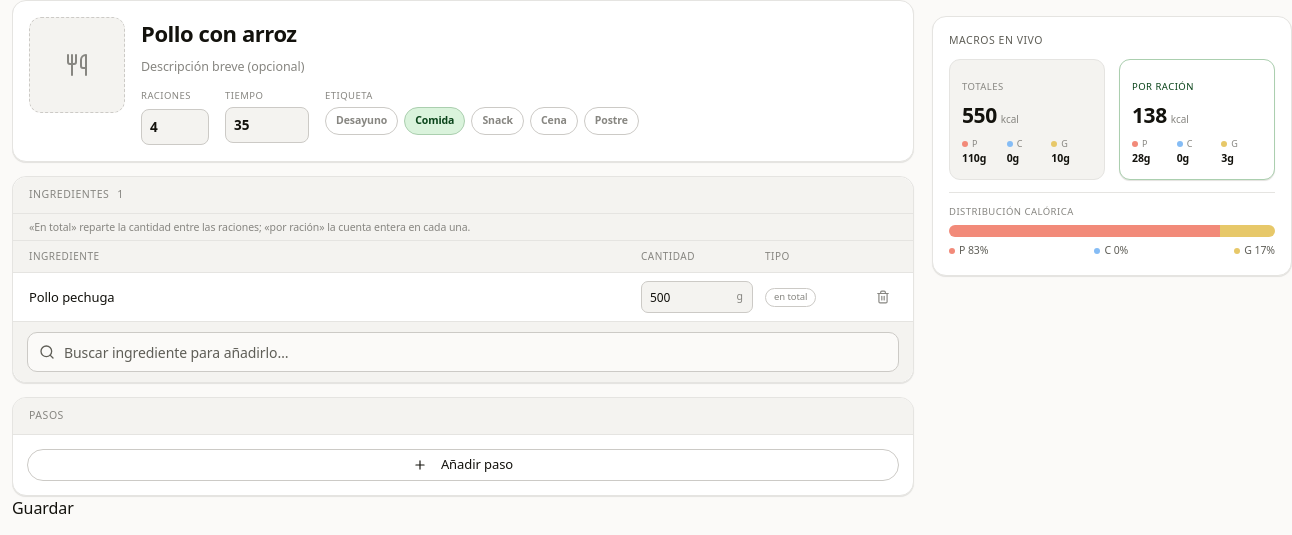
it: RecipeEditorForm — removing a row (inline confirm, Cancelar on the outside) › replaces the row with a confirm strip rather than deleting on the first tap
The image size is (1292, 535).
Click the button named "Quitar Pollo pechuga de la receta". click: (883, 297)
box: [869,283,897,311]
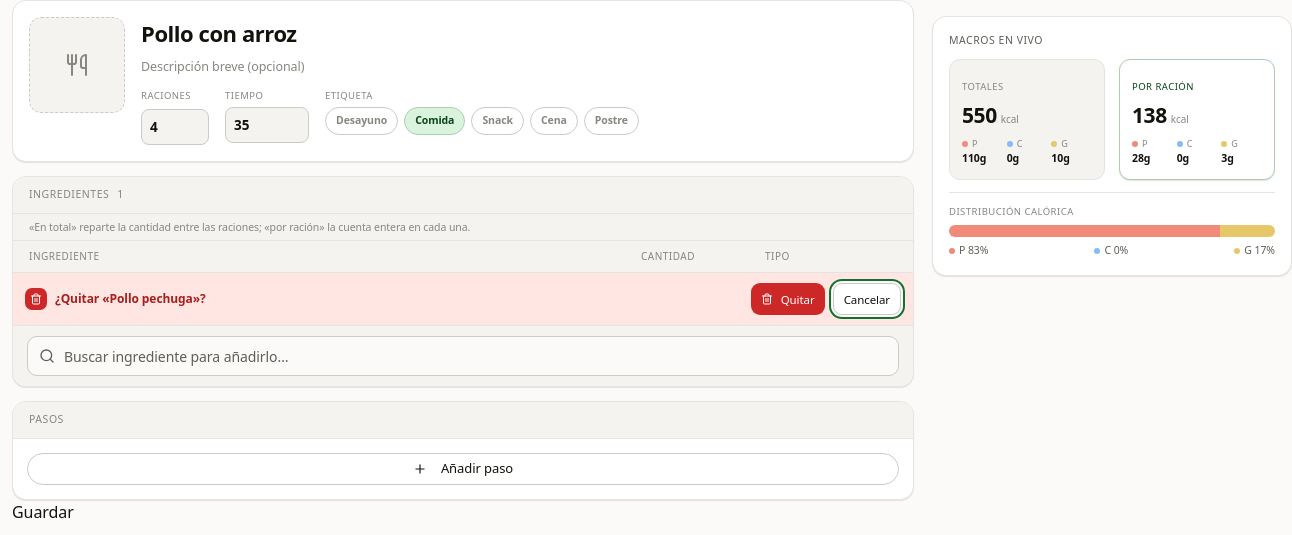
Expected: the field labelled "Cantidad de Pollo pechuga" is not shown
Expected: the text "¿Quitar «Pollo pechuga»?" is shown, [55,290,206,307]
Expected: the button "Cancelar" is shown, [833,283,901,315]
